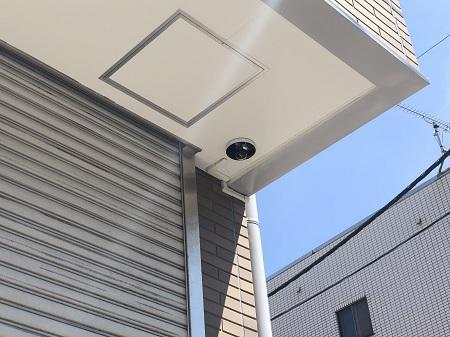maru: (219, 137, 261, 163)
